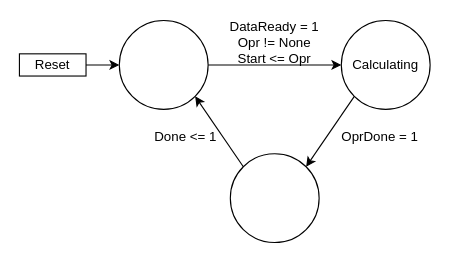
This 450x262 diagram has some shape labels left out. The shapes that lost their labels are listed below. From the top down, each one's centre as x and y in pixels, then its label:
(x=163, y=64): Idle
(x=274, y=198): Done
